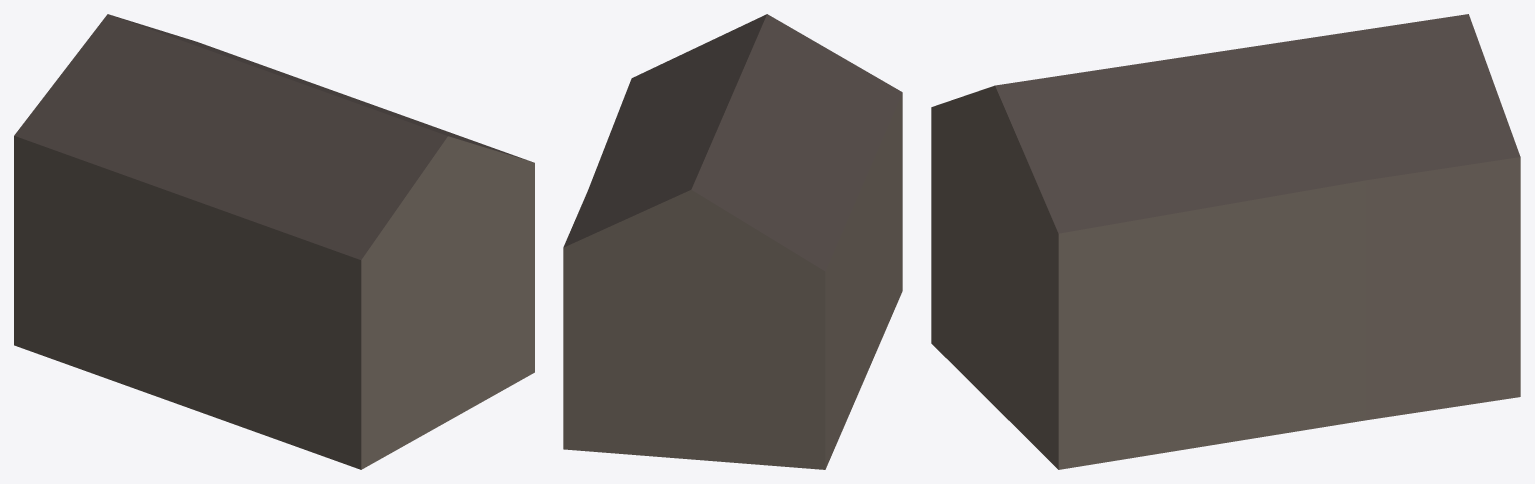
3 renders of one model, left to right at view 1: azimuth 30°, elevation 25°; view 2: azimuth 150°, elevation 25°; view 3: azimuth 270°, elevation 25°, orthographic. The views are drawn at different scales.
Parts seen in each view (by area): view 1: HP-w1198645090; view 2: HP-w1198645090; view 3: HP-w1198645090.
Boxes of the visible parts, x1,y1,x2,y2 form: HP-w1198645090: (14,14,534,469); HP-w1198645090: (563,14,902,469); HP-w1198645090: (931,14,1520,469).
Bounding box in the file's own units: 10.86 × 8.16 × 13.56.
